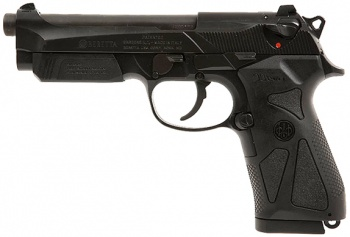gun: (2, 2, 350, 235)
